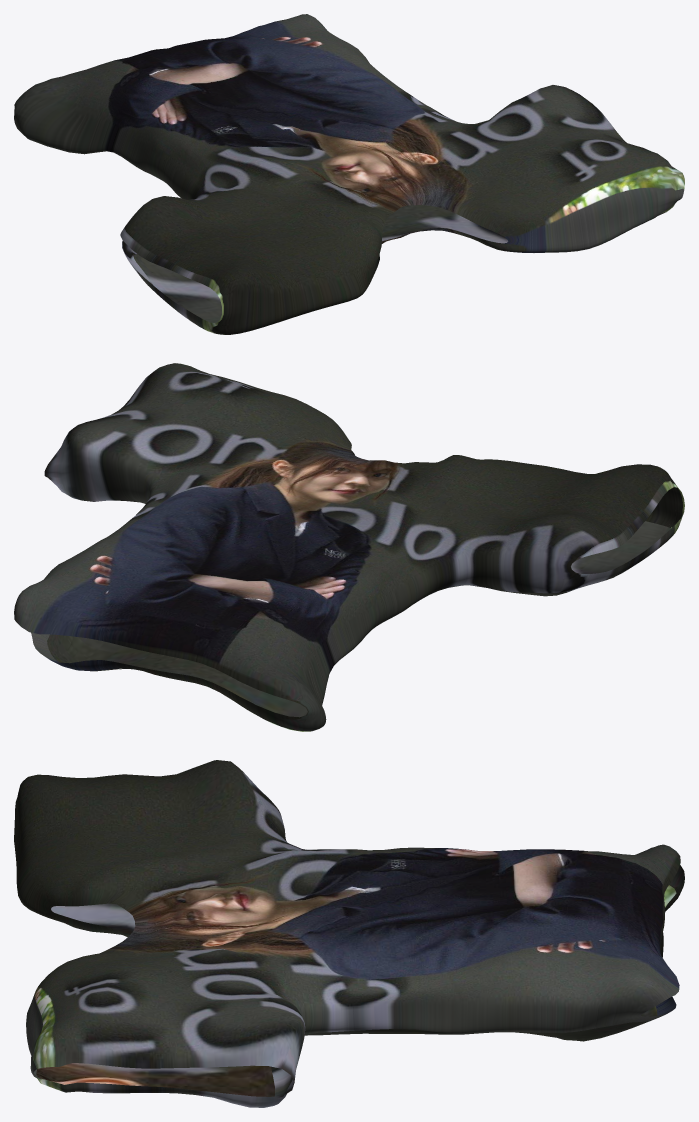
The model's file is FaceOnShirt.fbx.
The picture shows the model from 3 angles, top to bottom: view 1: azimuth 30°, elevation 25°; view 2: azimuth 150°, elevation 25°; view 3: azimuth 270°, elevation 25°; orthographic projection. The views are drawn at different scales.
Parts seen in each view (by area): view 1: shirt; view 2: shirt; view 3: shirt.
Boxes of the visible parts, x1=… form: shirt: x1=14, y1=14, x2=684, y2=334; shirt: x1=14, y1=363, x2=684, y2=731; shirt: x1=14, y1=760, x2=684, y2=1107.
Bounding box in the file's own units: 115 × 19.94 × 114.
Materials: 1 (1 with a texture image).
